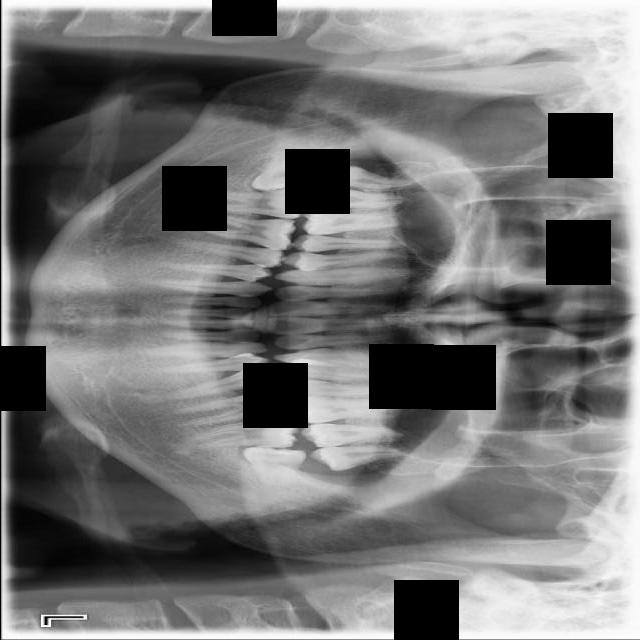3M ESPE Implant: (320, 162, 425, 196)
73: (44, 610, 60, 614)
BioHorizons Implant: (300, 423, 416, 447)
BioLife Implant: (309, 443, 421, 473)
Biomet 3i Implant: (238, 443, 307, 496)
Blue Sky Bio Implant: (185, 416, 298, 450)
Caries: (304, 184, 423, 215)
Implant: (193, 187, 306, 219)
Keystone Dental Implant: (250, 138, 316, 193)
